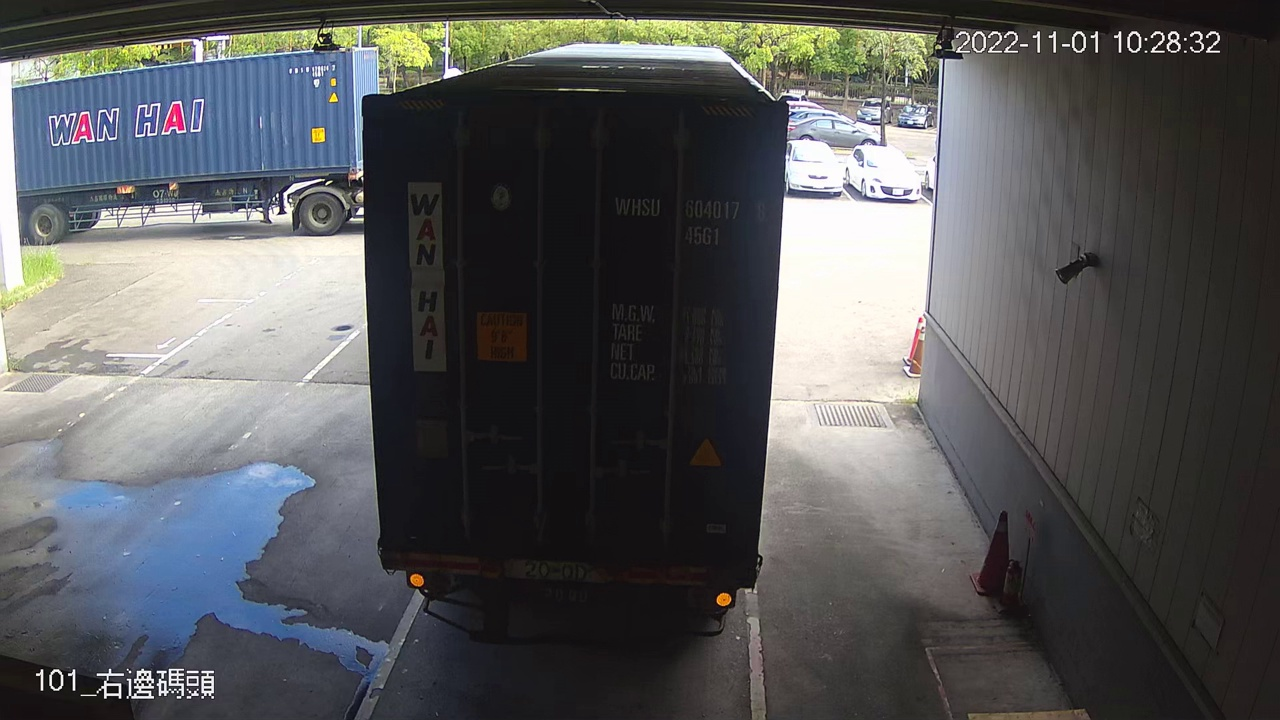container: (608, 185, 775, 257)
